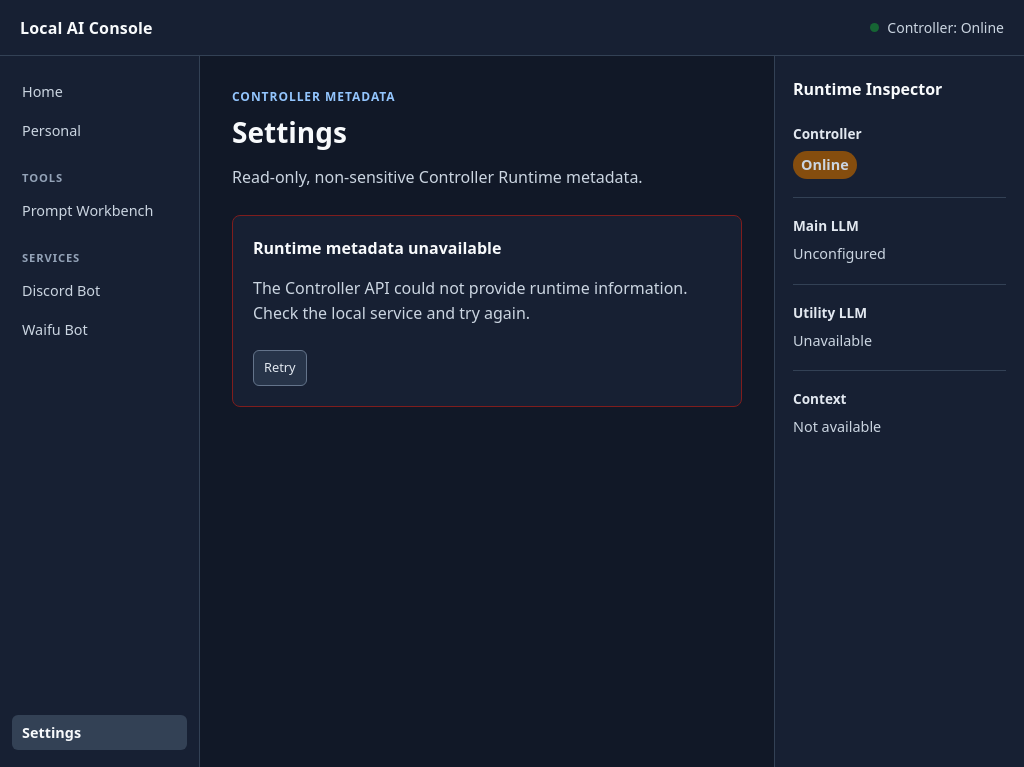
Test: Local AI Console web shell › shows a readable Settings error and retries runtime metadata
Expected: the heading "Runtime metadata unavailable" is shown, [253,237,501,259]
Click the button "Retry". click: [280, 368]
box: [253,350,307,386]
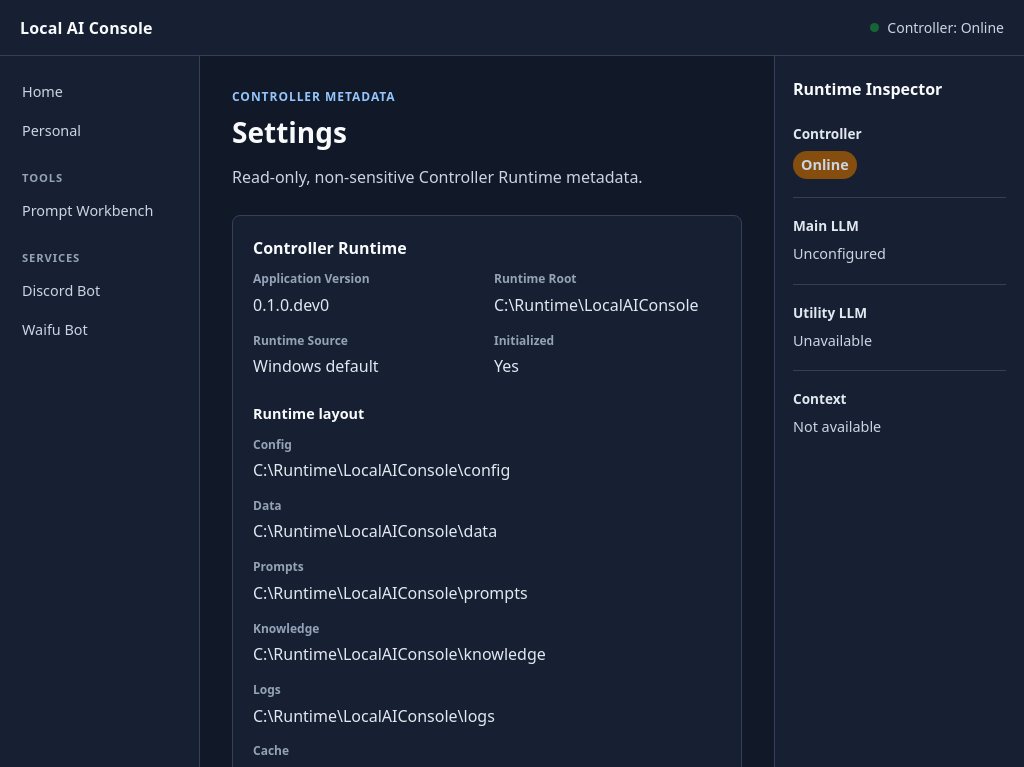
Expected: the heading "Controller Runtime" is shown, [253,237,407,259]
